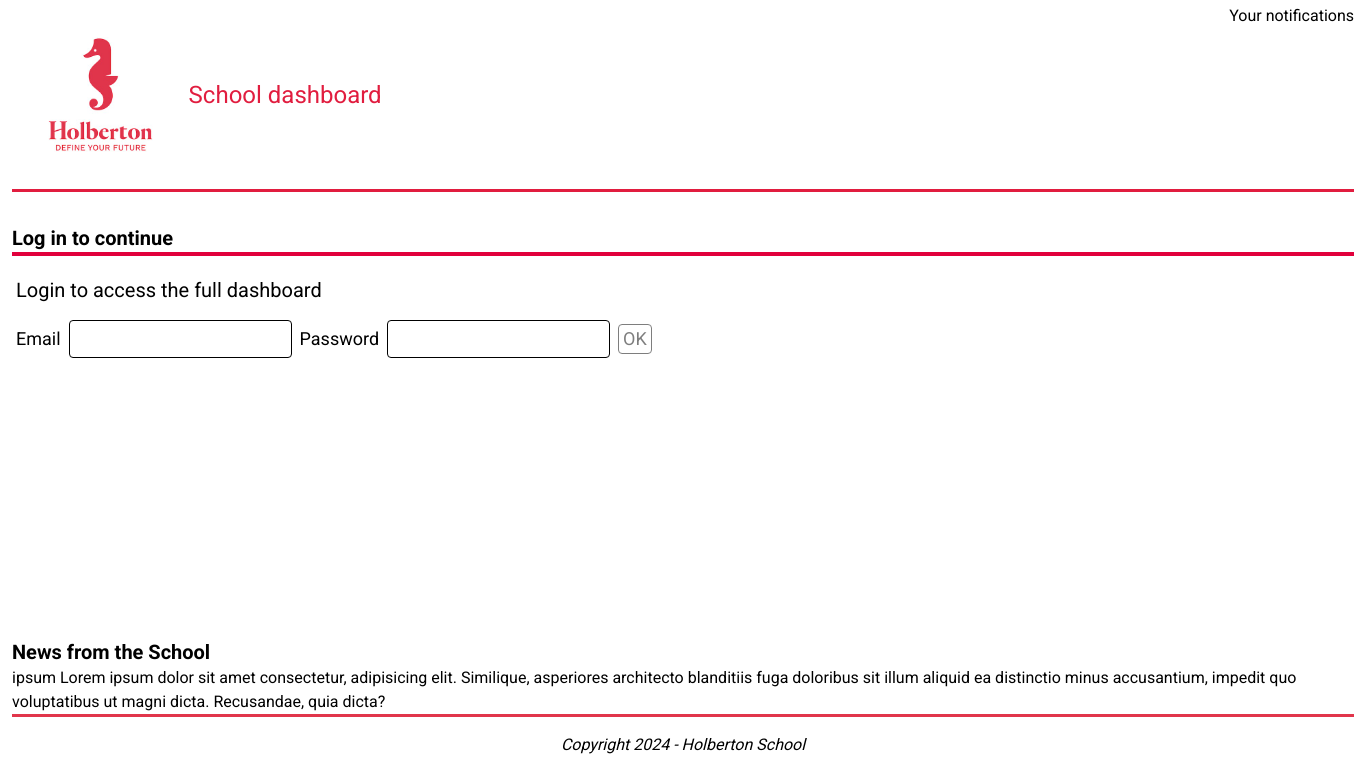
Test case: App Component › clicking on close button hides the notifications panel
What coordinates should you click on to do the following:
click the text "Your notifications"
I would click on:
 (1292, 16)
Its box is [1229,4,1354,28].
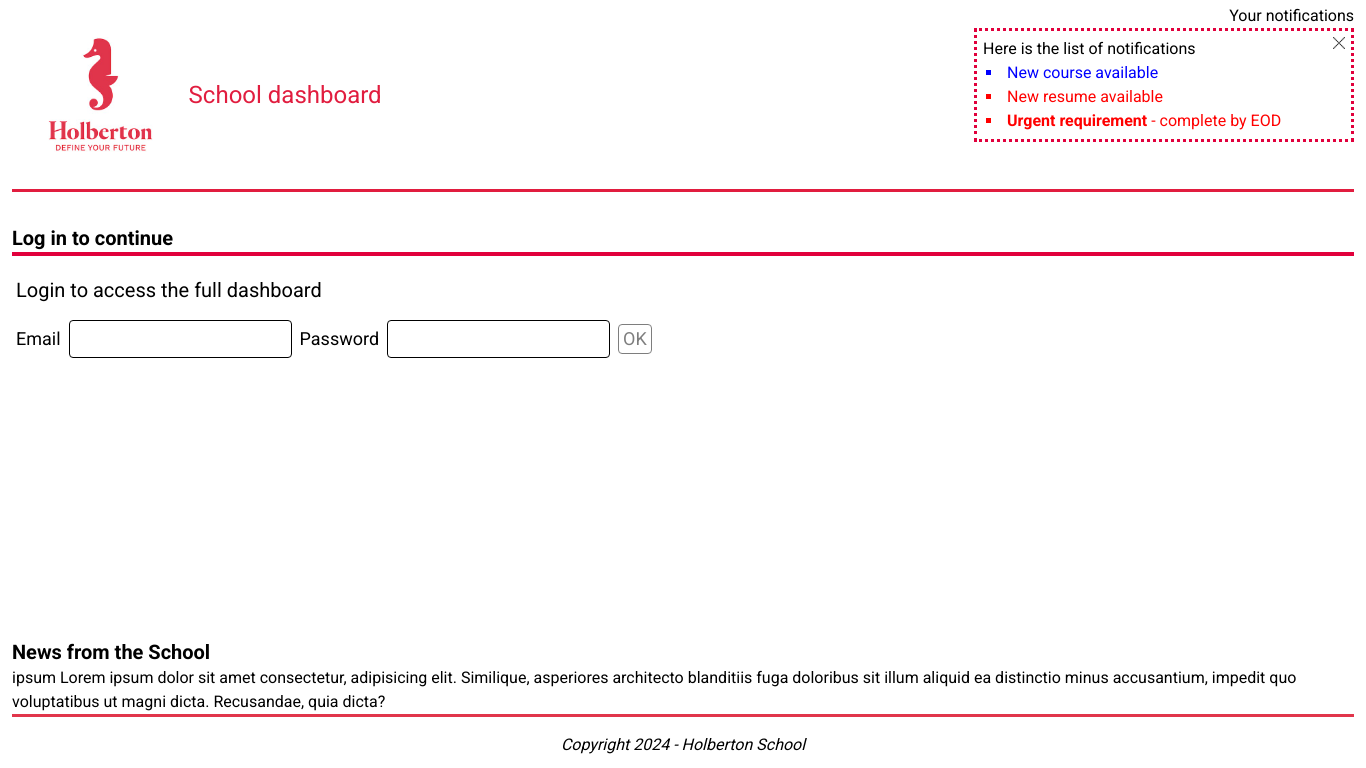
Expected: the text "Here is the list of notifications" is shown, [983,39,1196,58]
What coordinates should you click on to do the following:
click the button named "close"
I would click on:
 (1339, 43)
Its box is [1333,37,1345,49].
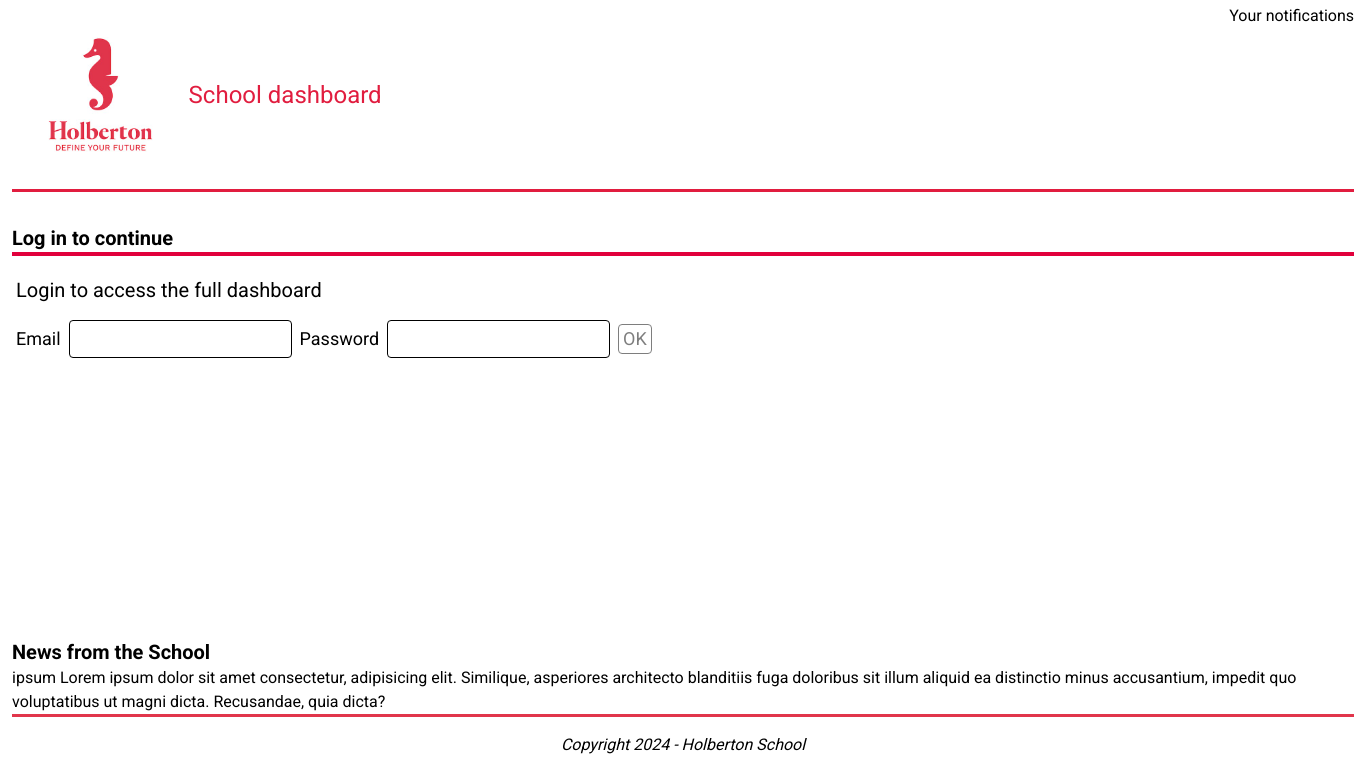
Expected: the text "Here is the list of notifications" is gone
